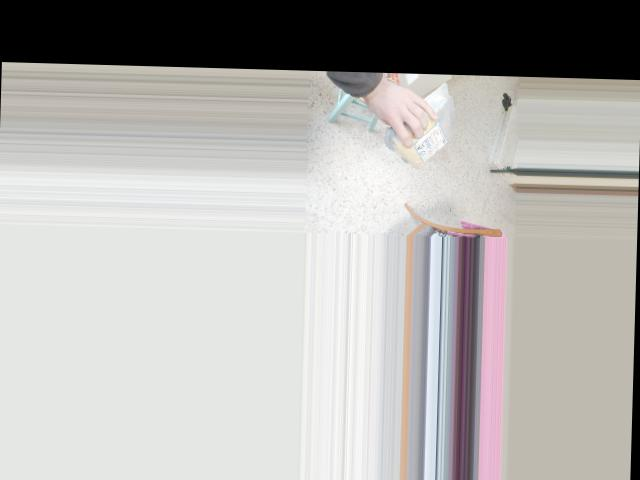cheese: (389, 83, 454, 167)
